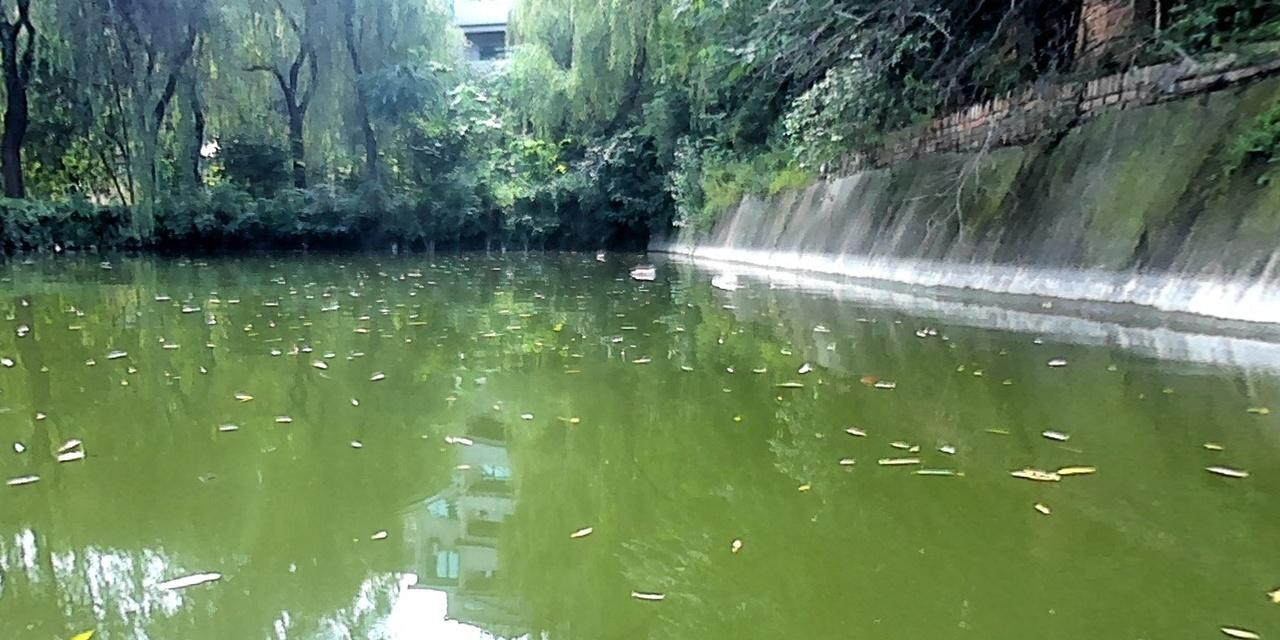bottle: (625, 264, 658, 278), (708, 271, 739, 284)
